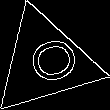O_W: (14, 34, 77, 90)
